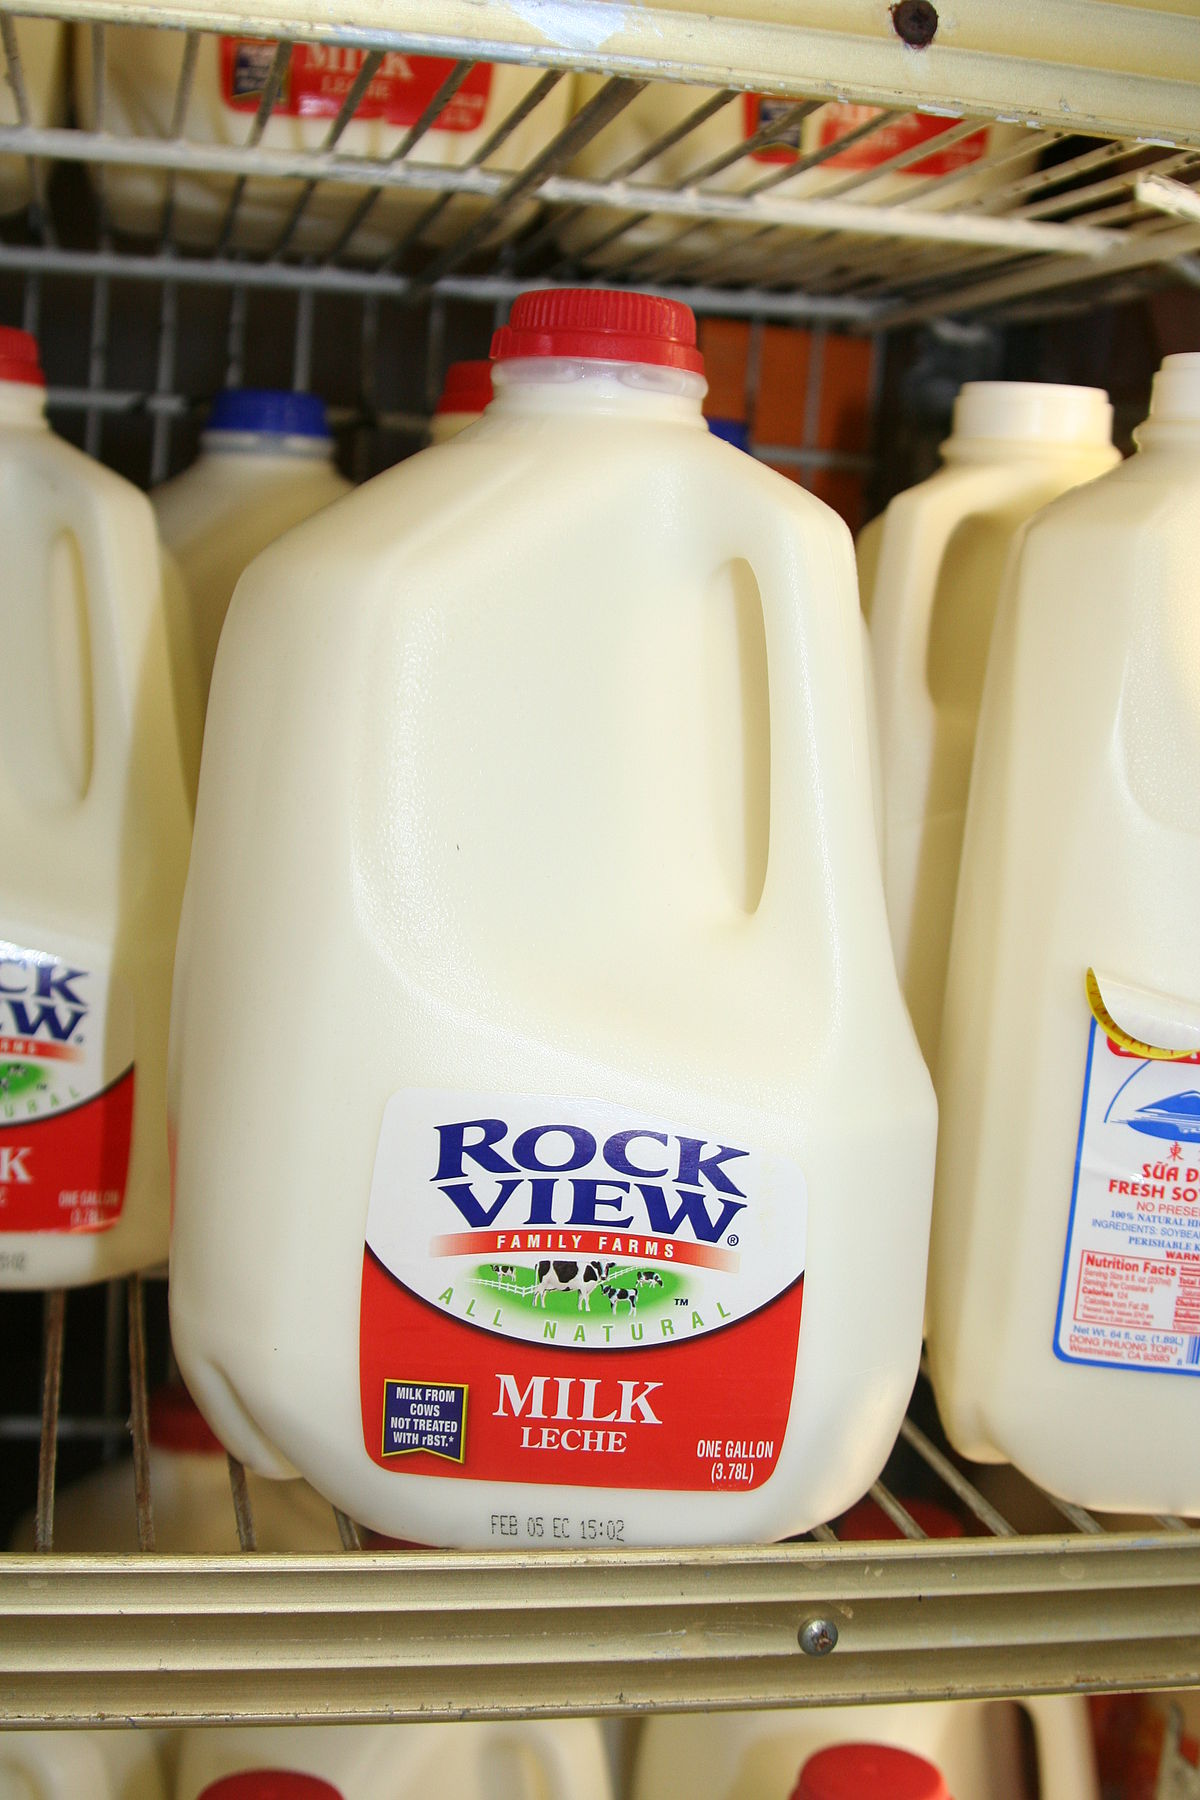milk: (228, 299, 925, 1551), (948, 358, 1200, 1531), (5, 317, 178, 1318), (178, 380, 352, 571)
